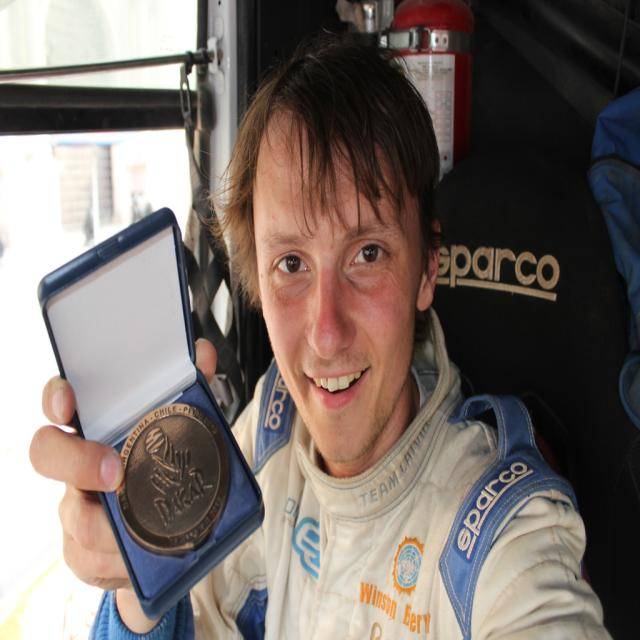Coin: (116, 406, 233, 558)
